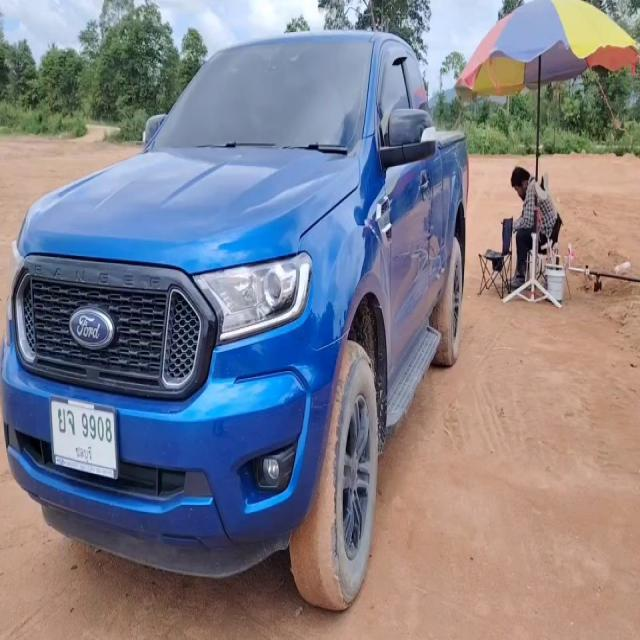Digit: (81, 412, 113, 444)
Licenseplate: (49, 396, 118, 479)
Provincename: (75, 442, 94, 465)
Thaichar: (57, 407, 77, 437)
